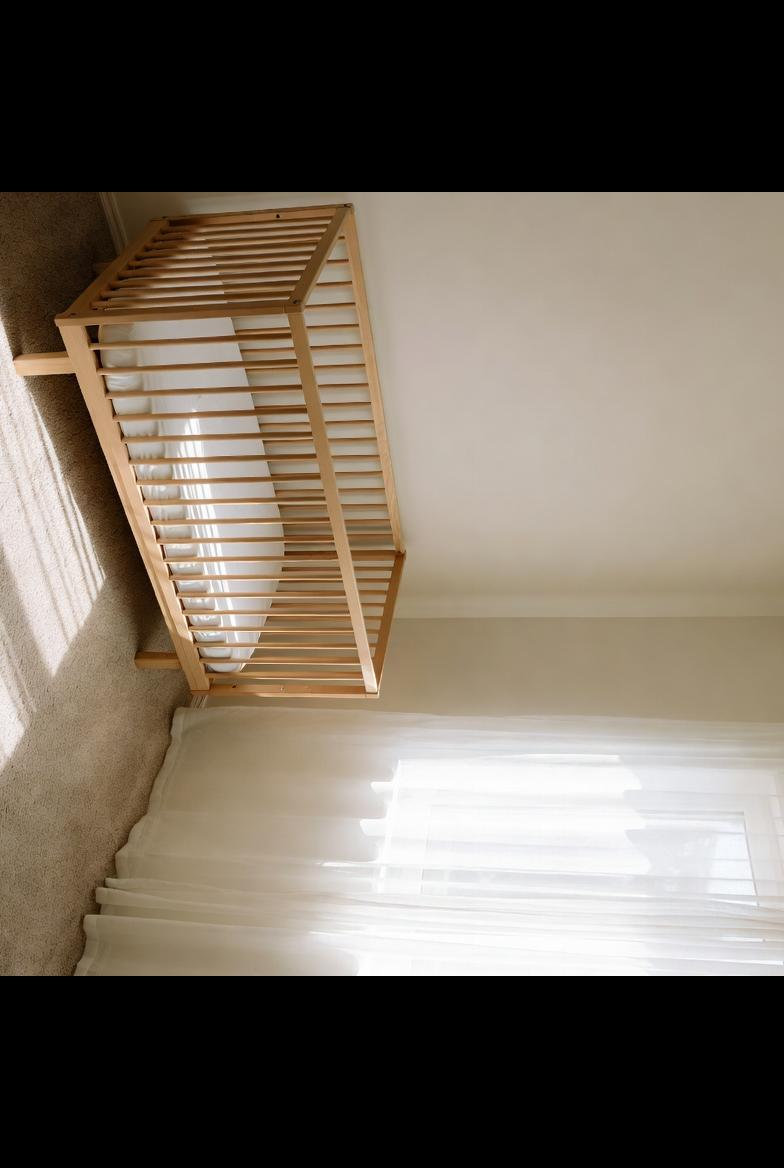crib: (15, 205, 404, 697)
